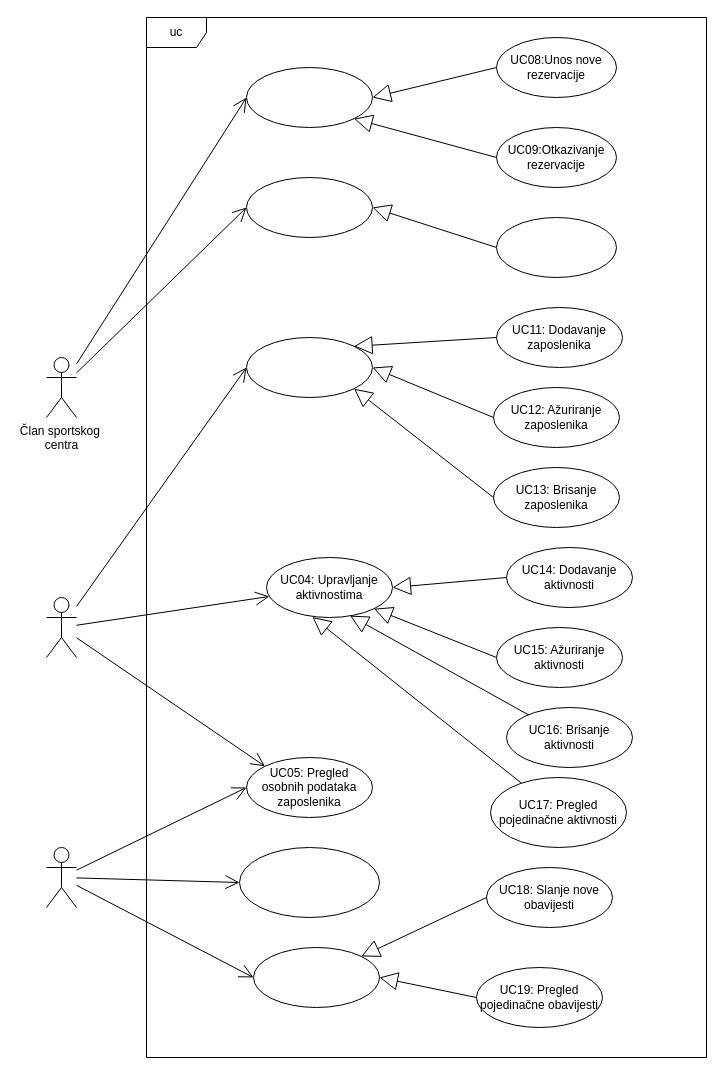
This 724x1075 diagram has some shape labels left out. The box of each missing label's shape, as (x1, y1, x2, y2) in pixels:
Administrator: (46, 596, 76, 658)
UC01: Upravljanje rezervacijama: (246, 66, 372, 128)
UC02: Upravljanje članstvom i osobnim podacima: (246, 176, 372, 238)
UC03: Upravljanje računima zaposlenika: (246, 336, 372, 398)
UC06: Upravljanje prisutnosti na terminima i aktivnostima: (238, 846, 380, 918)
UC07: Upravljanje obavijestima: (252, 946, 380, 1008)
UC10:Izmjena osobnih podataka: (496, 216, 616, 278)
Zaposlenik sportskog centra: (46, 846, 76, 908)
